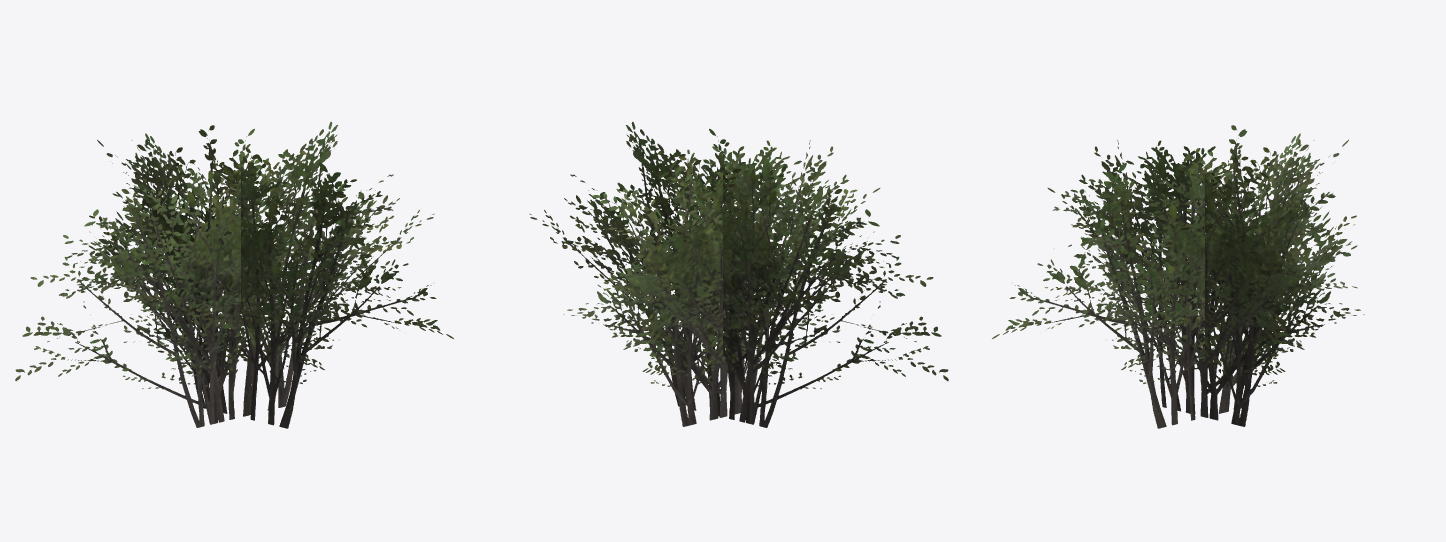
Rendered from trnka_1_daleko.glb.
The picture shows the model from 3 angles, left to right: view 1: azimuth 30°, elevation 25°; view 2: azimuth 150°, elevation 25°; view 3: azimuth 270°, elevation 25°; orthographic projection.
Parts seen in each view (by area): view 1: trnka_1_daleko; view 2: trnka_1_daleko; view 3: trnka_1_daleko.
Part boxes in pixels (left/top/right/bottom): trnka_1_daleko: left=15, top=122, right=453, bottom=428; trnka_1_daleko: left=529, top=122, right=948, bottom=427; trnka_1_daleko: left=992, top=125, right=1364, bottom=428.
Bounding box in the file's own units: 3.49 × 2.15 × 3.02.
Materials: 3 (3 with a texture image).
